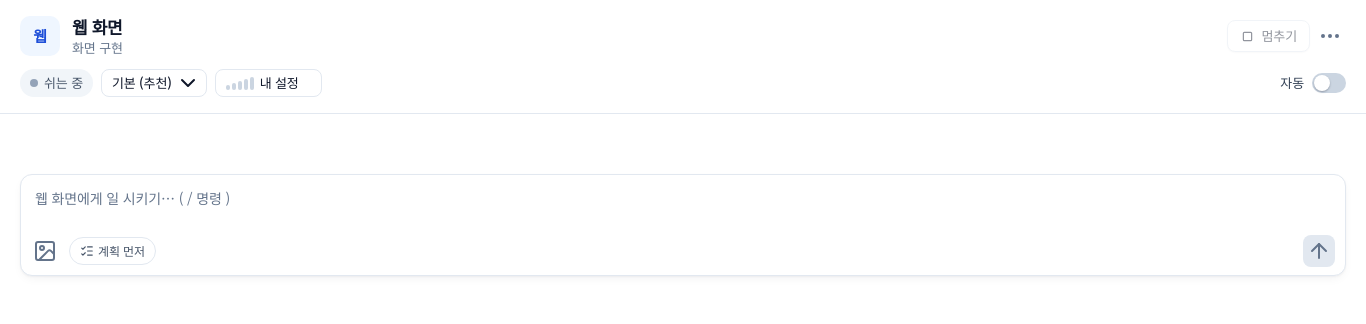
AgentMenu › 지금 재우기 › 새 대화 바로 아래에 있고, 막힌 까닭이 없으면 누르는 즉시 sleep 한 번 · 메뉴는 닫힌다
Click the button named "메뉴": [1330, 36] box [1314,20,1346,52]
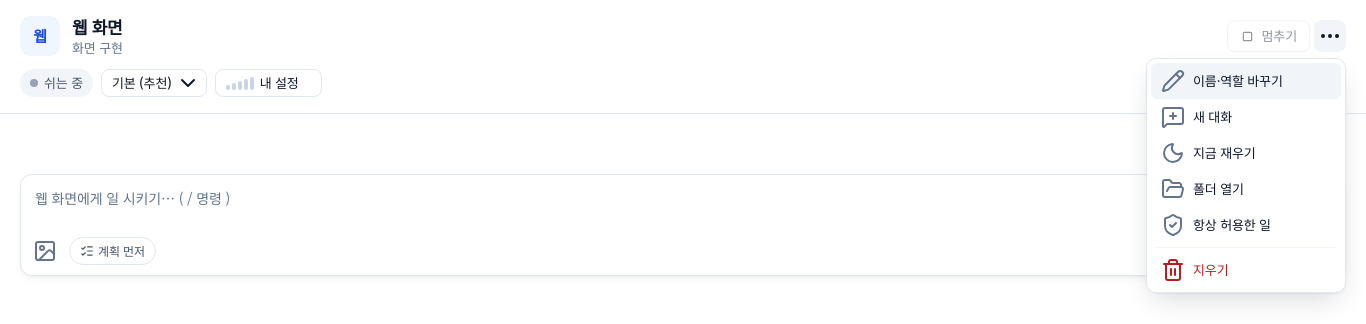
Now the menu item "지금 재우기" is enabled
Click the menu item "지금 재우기": [1246, 153] box [1151,135,1341,171]
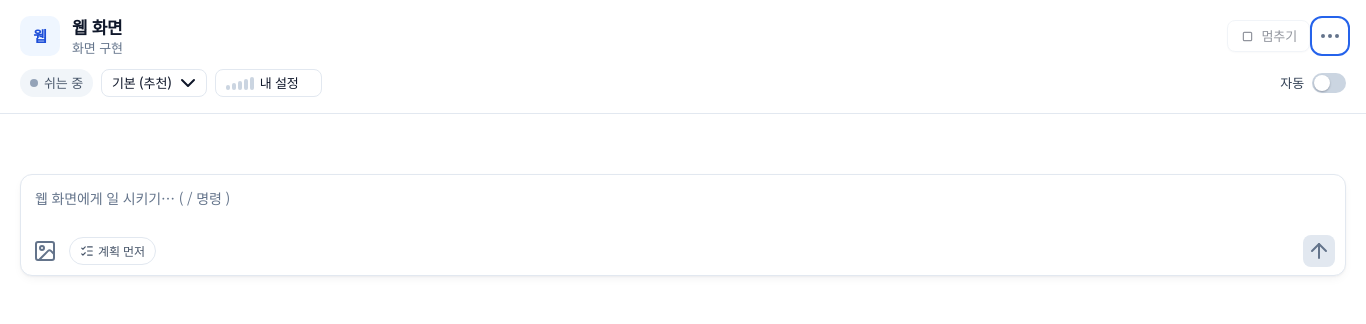
Now the menu is gone
